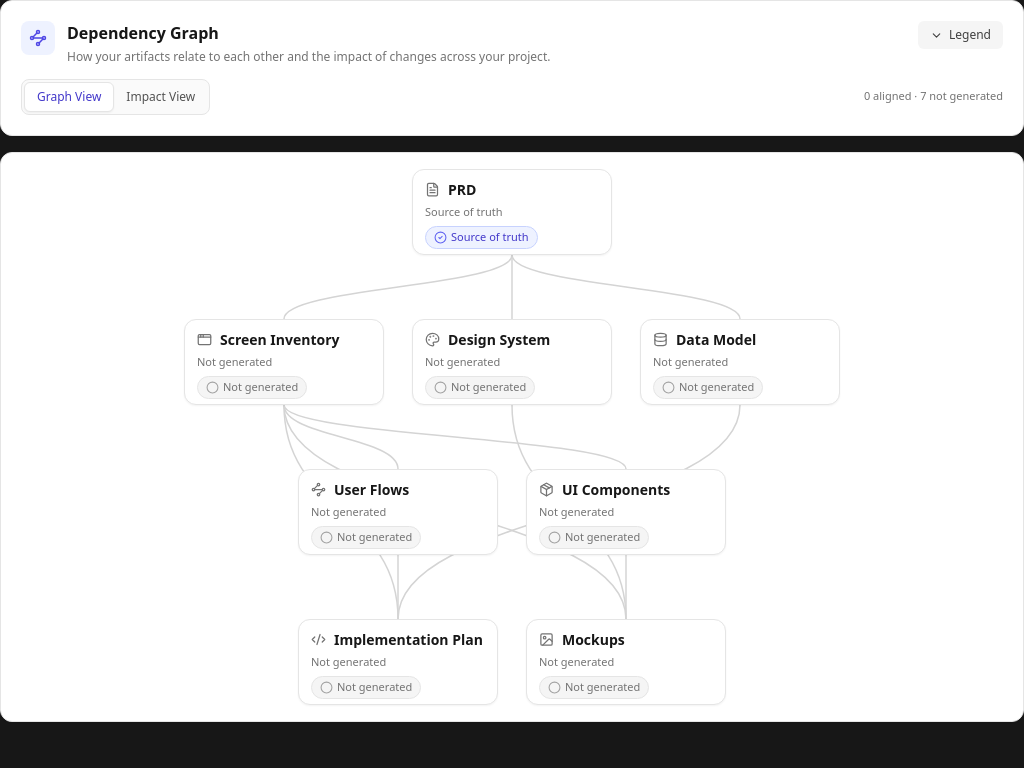
it: read-only demo surfaces › keeps dependency inspection usable while hiding generation controls
Click the button "Impact View".
click(161, 96)  # box [114, 82, 207, 112]
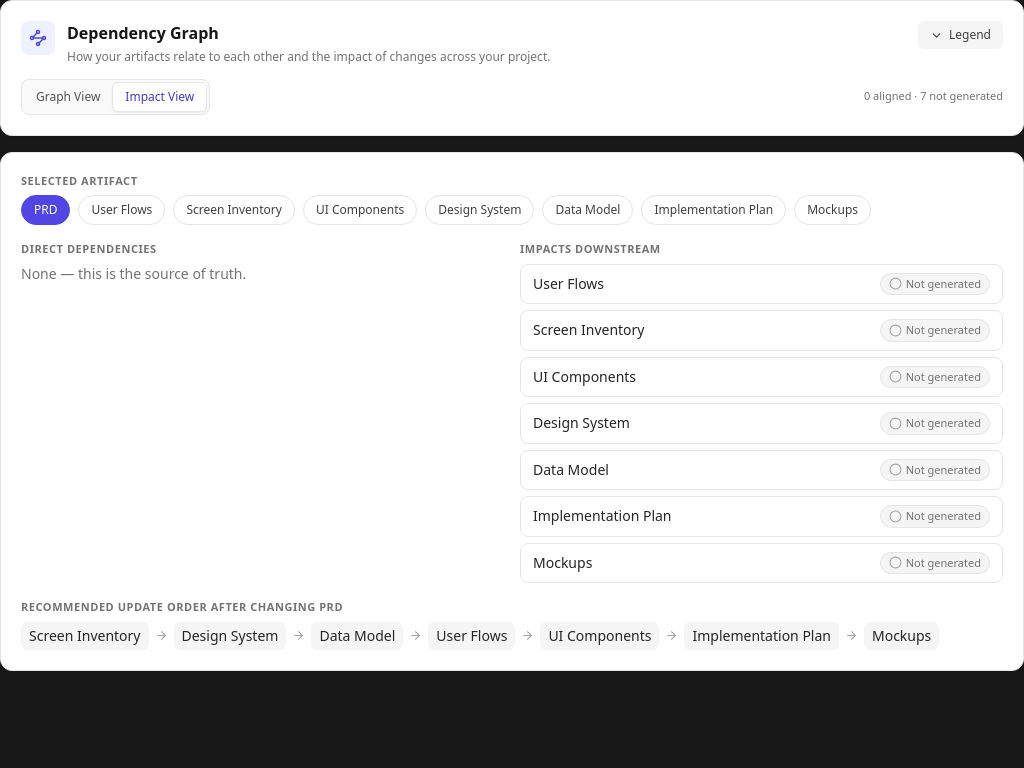
expect the button "Graph View" is enabled: met, box [24, 82, 112, 112]
Click the button "Data Model".
click(588, 210)  # box [542, 195, 634, 225]
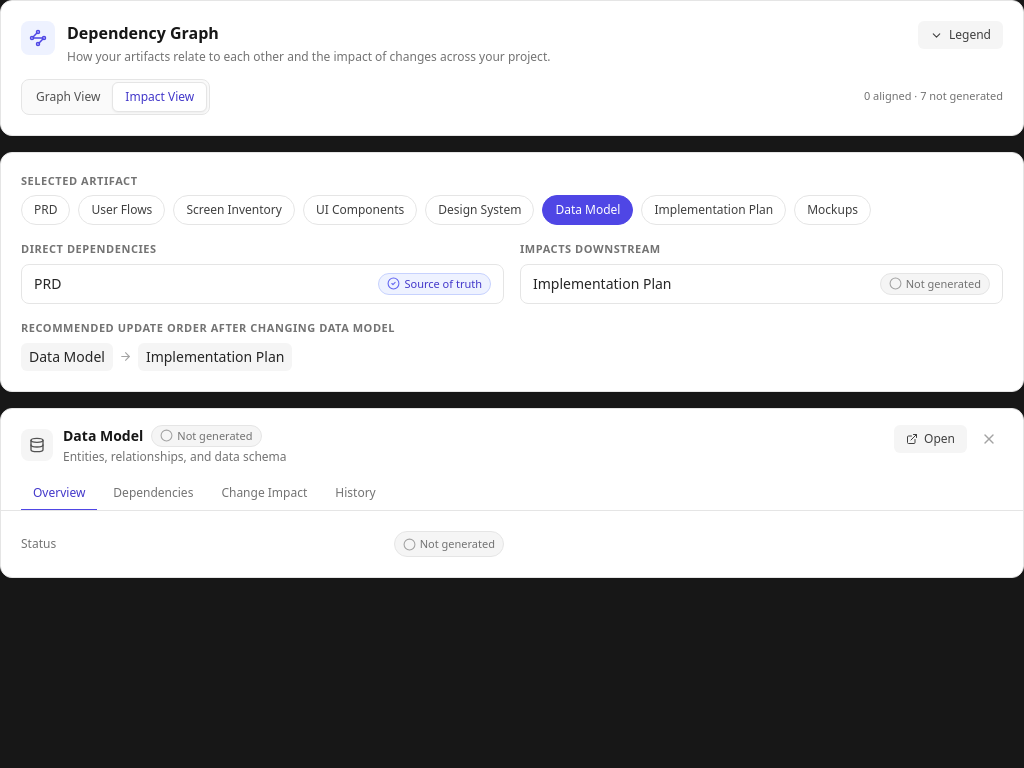
expect the button "Open" is enabled: met, box [894, 424, 967, 452]
